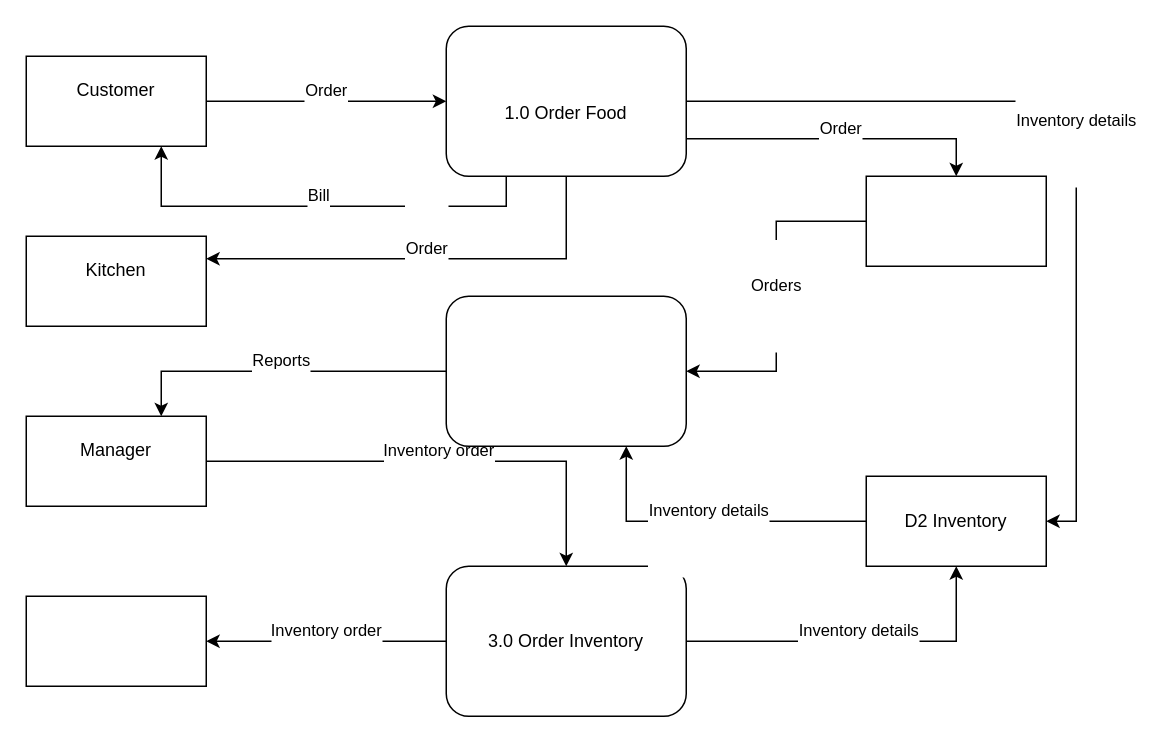
This 1163x743 diagram has some shape labels left out. The shapes that lost their labels are listed below. From the top down, each one's centre as x and y in pixels, then its label:
pixel 955 220: D1 Orders
pixel 565 370: 2.0 Generate Reports
pixel 115 640: Supplier
